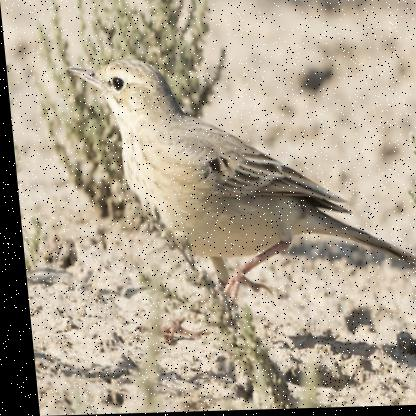Burung: (64, 47, 415, 323)
